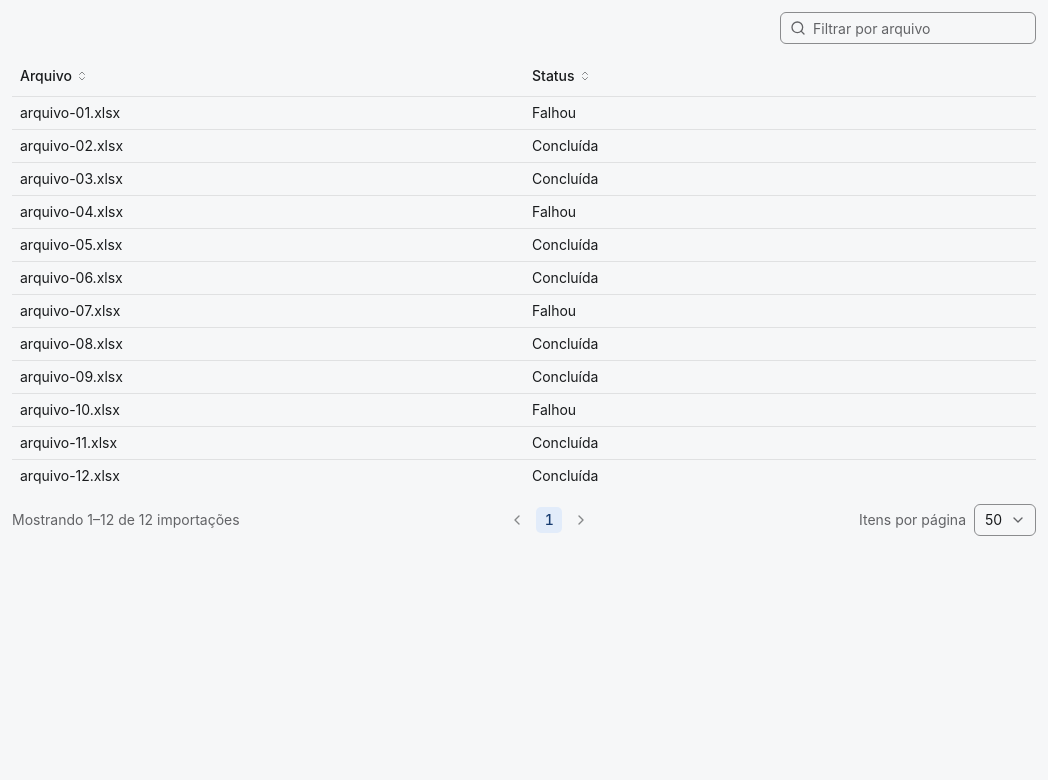
Test case: DataTable — pagination, filter and URL state › filters by the text of any string column, ignoring case and accents
Type "concluida" into the search field named "Filtrar a tabela" at (908, 28), box [780,12,1036,44]
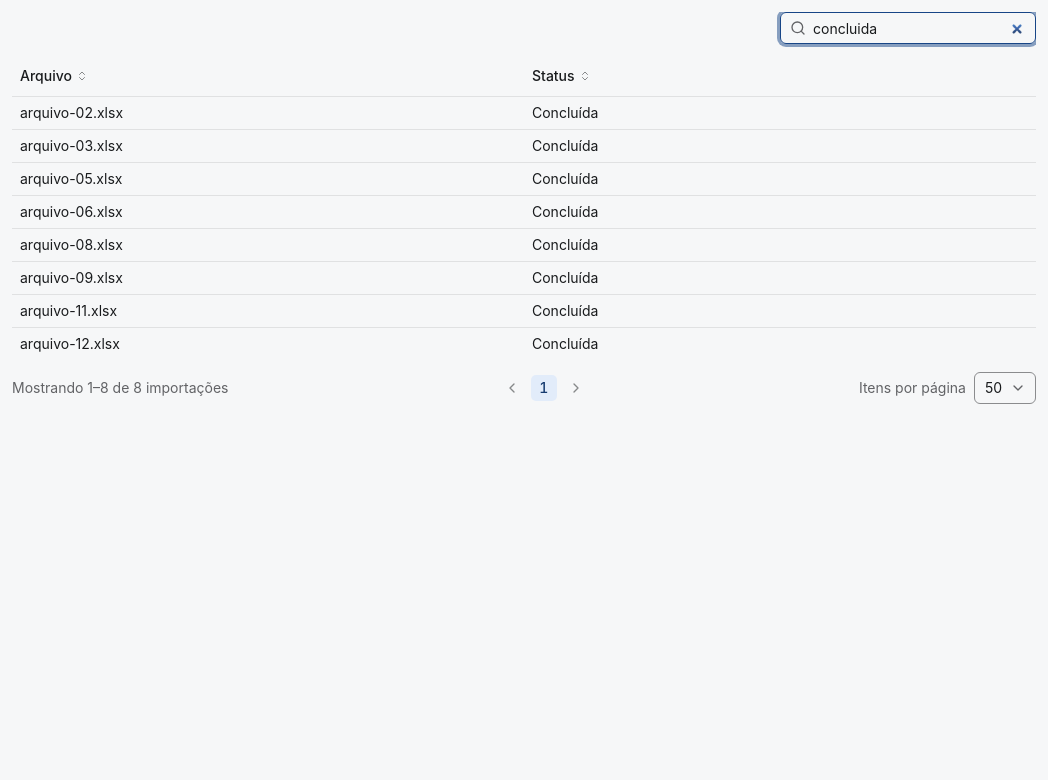
Expected: the text "Mostrando 1–8 de 8 importações" is shown, [12,378,228,398]
